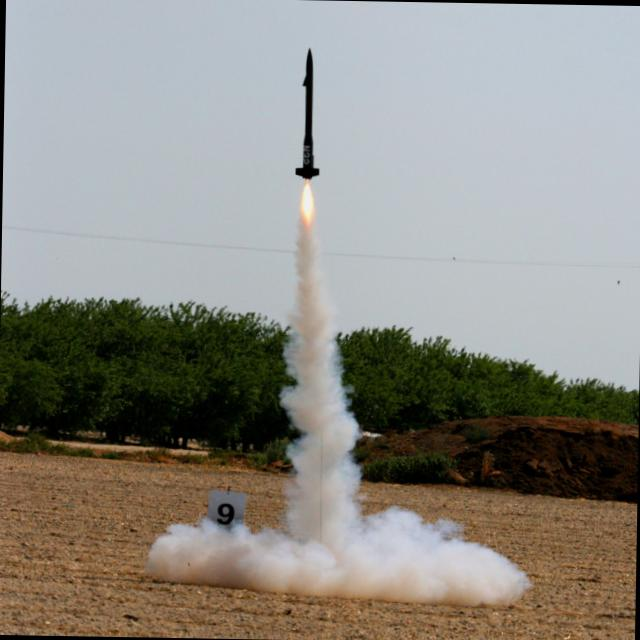rocket: (277, 44, 330, 324)
